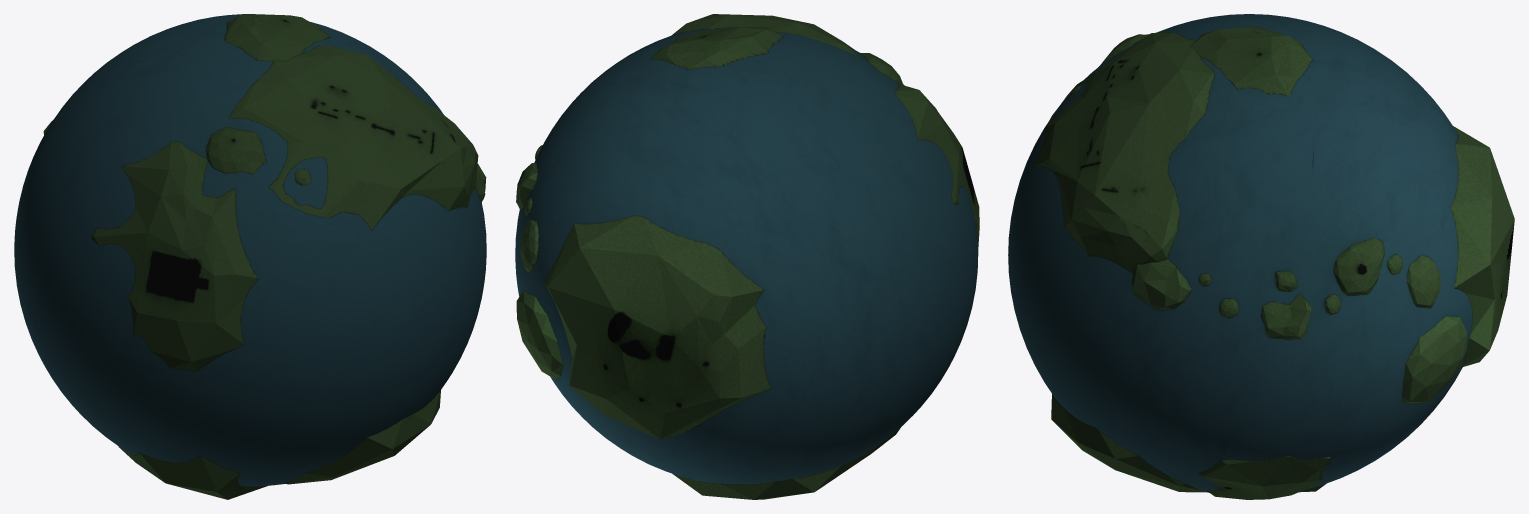
File: planet.obj
3 views of the same model, side by side, from view 1: azimuth 30°, elevation 25°; view 2: azimuth 150°, elevation 25°; view 3: azimuth 270°, elevation 25° (orthographic). The views are drawn at different scales.
Parts seen in each view (by area): view 1: Planet.001_Planet-mesh.020_Ocean-material, Planet.001_Planet-mesh.020_Land-material; view 2: Planet.001_Planet-mesh.020_Ocean-material, Planet.001_Planet-mesh.020_Land-material; view 3: Planet.001_Planet-mesh.020_Ocean-material, Planet.001_Planet-mesh.020_Land-material.
Part boxes in pixels (x1,y1,x2,y2): Planet.001_Planet-mesh.020_Ocean-material: (14,14,486,486); Planet.001_Planet-mesh.020_Land-material: (43,14,486,499); Planet.001_Planet-mesh.020_Ocean-material: (515,27,978,484); Planet.001_Planet-mesh.020_Land-material: (516,14,979,499); Planet.001_Planet-mesh.020_Ocean-material: (1008,14,1472,492); Planet.001_Planet-mesh.020_Land-material: (1033,26,1514,499).
Bounding box in the file's own units: 22.33 × 23.09 × 23.3.
